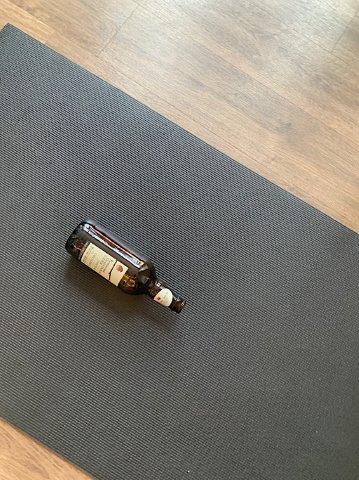botolkaca: (65, 219, 187, 314)
